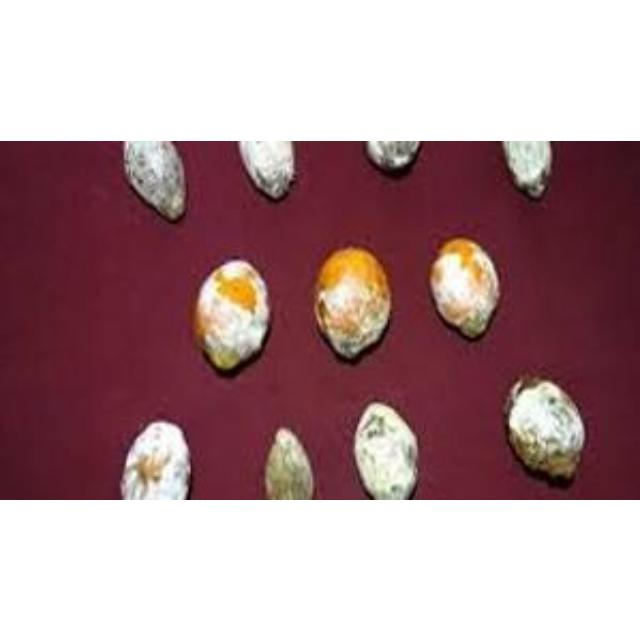damaged: (310, 245, 394, 365), (193, 258, 272, 378), (505, 378, 586, 487), (428, 236, 501, 341), (353, 399, 422, 497), (122, 140, 188, 223), (120, 423, 193, 497), (235, 140, 295, 202), (265, 429, 315, 497), (499, 140, 552, 202), (362, 140, 424, 179)
